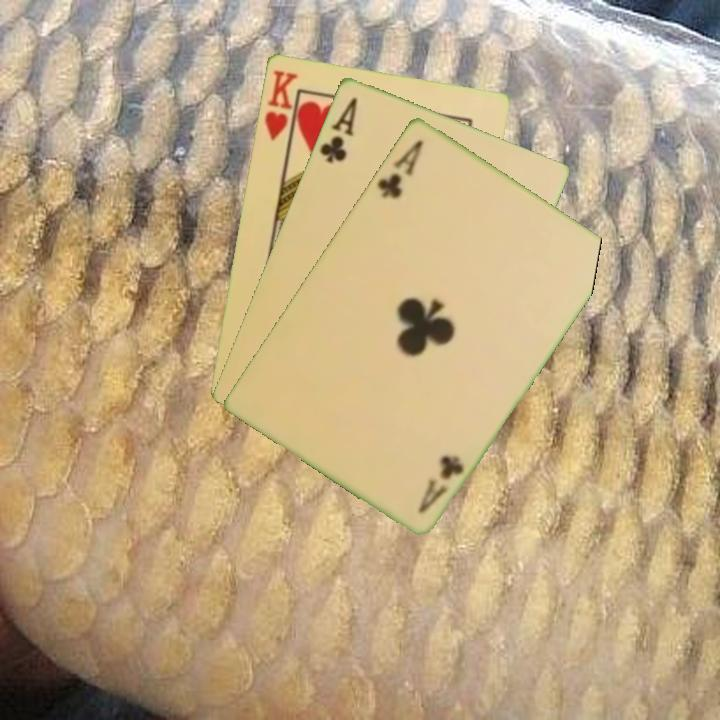Ac: (373, 135, 426, 202), (414, 450, 467, 516), (316, 93, 360, 166)
Kh: (261, 66, 300, 150)
